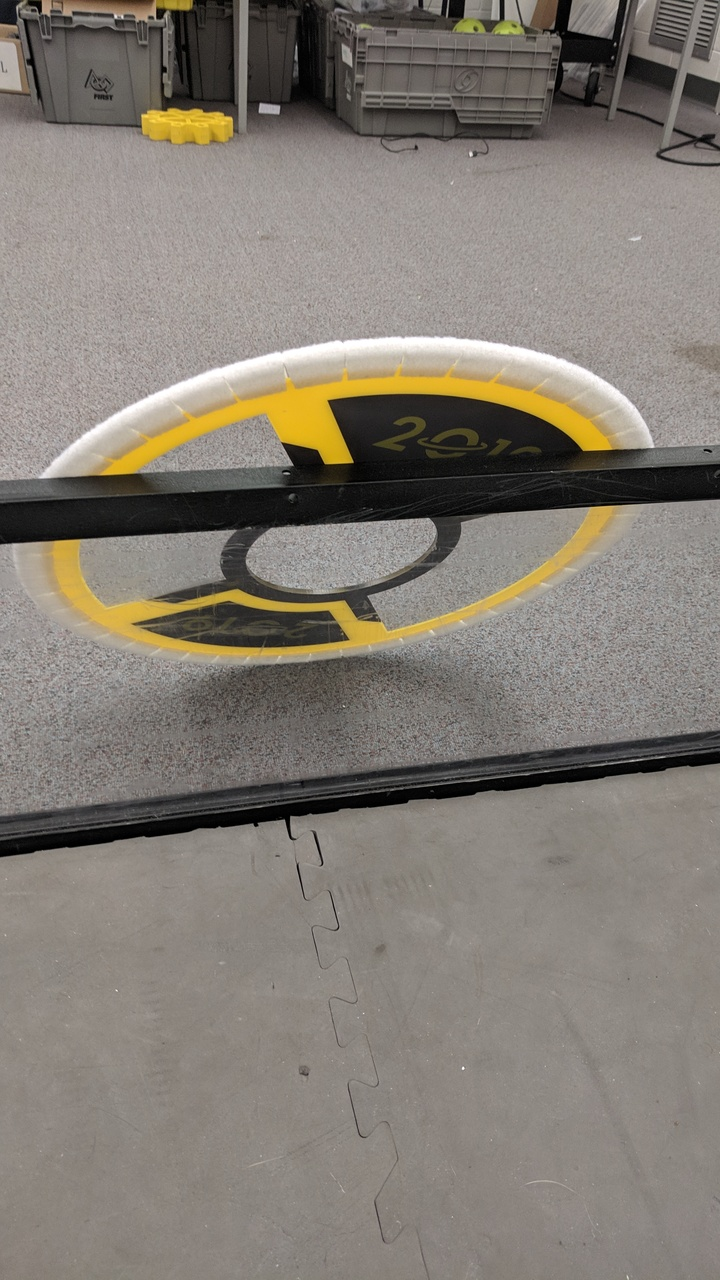hatch_panel: (7, 330, 673, 682)
